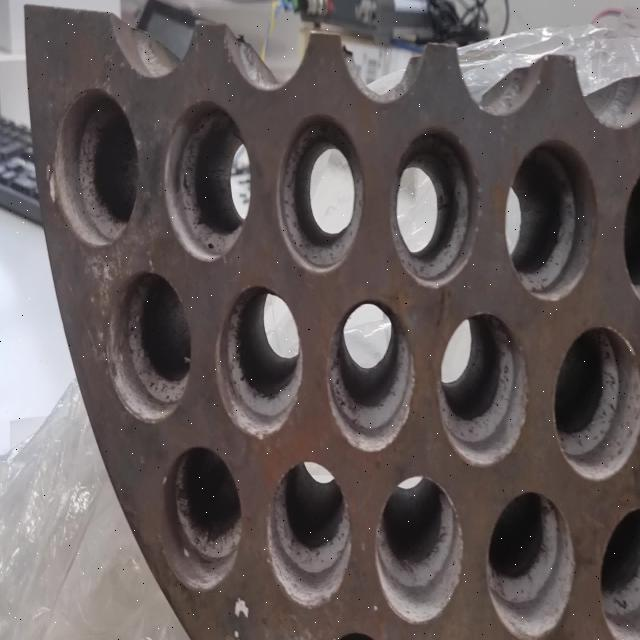Hole: (504, 138, 599, 302), (163, 99, 252, 262), (390, 126, 479, 288), (276, 111, 364, 274), (49, 88, 139, 246), (438, 312, 528, 468), (326, 298, 416, 453), (215, 284, 303, 440), (553, 326, 639, 482), (486, 490, 576, 639), (375, 475, 464, 625), (106, 270, 192, 424), (266, 460, 350, 608), (163, 444, 242, 590), (600, 504, 640, 640), (622, 146, 640, 308)
